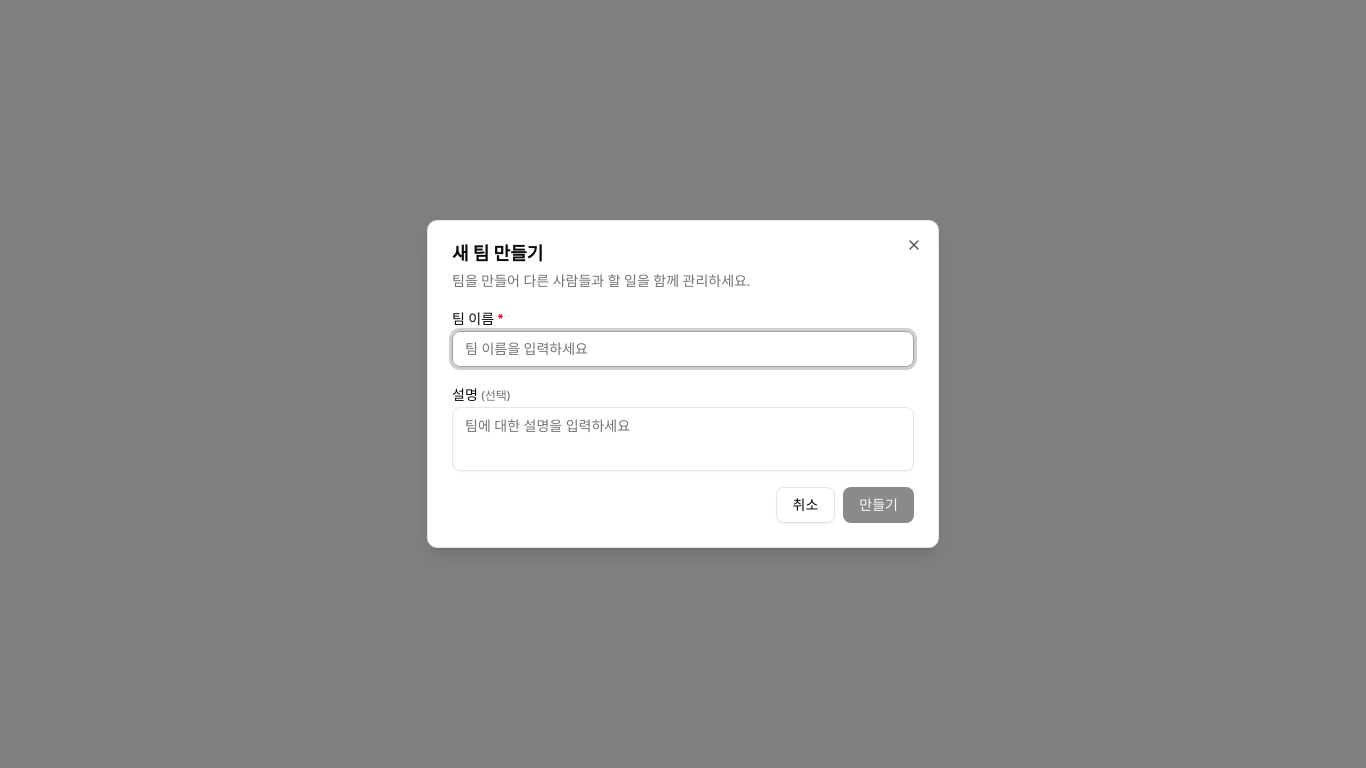
Scenario: CreateTeamDialog › enables submit when name has value
The width and height of the screenshot is (1366, 768).
Type "New Team" into the field with placeholder "팀 이름을 입력하세요" at (683, 349), box [452,331,914,367]
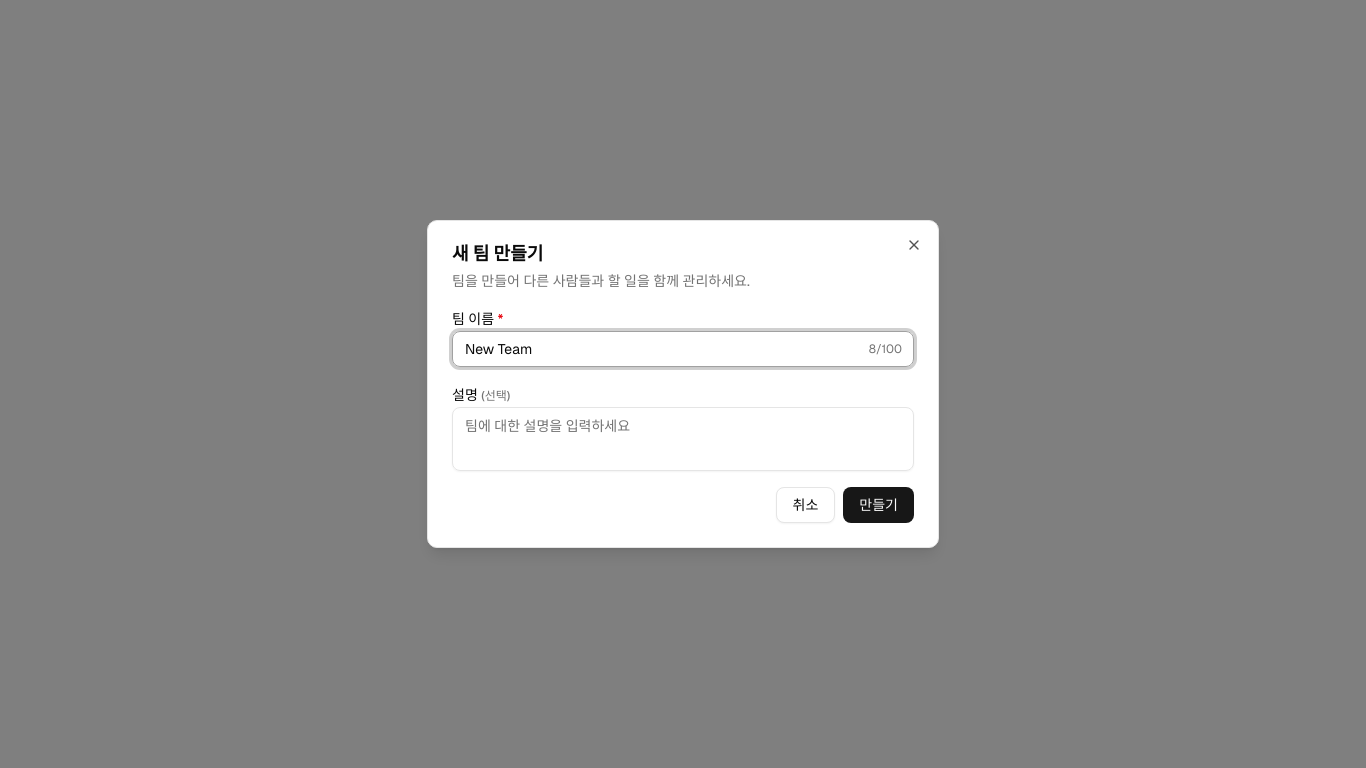
expect the button "만들기" is enabled: met, box [843,487,914,523]
